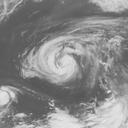cyclone: (34, 35, 85, 86)
